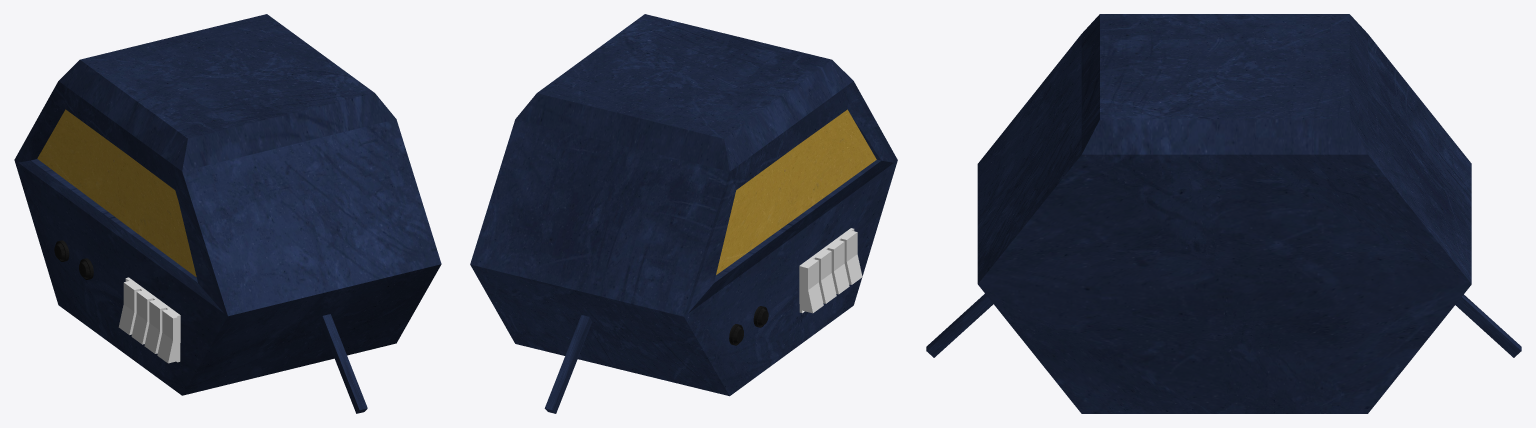
Rendered from Radio_b.fbx.
3 renders of one model, left to right at view 1: azimuth 30°, elevation 25°; view 2: azimuth 150°, elevation 25°; view 3: azimuth 270°, elevation 25°, orthographic. The views are drawn at different scales.
Visible parts, largest first — view 1: radio_body, Radio_2_screen, Switches, Leg_Right, Cube.004, Switch_Panel; view 2: radio_body, Radio_2_screen, Switches, Leg_Left, Cube.004, Switch_Panel; view 3: radio_body, Leg_Right, Leg_Left.
Boxes of the visible parts, box(x1,y1,x2,y2) form: radio_body: box(14, 14, 441, 395); Radio_2_screen: box(37, 109, 196, 276); Switches: box(131, 290, 177, 363); Leg_Right: box(320, 314, 367, 413); Cube.004: box(118, 281, 140, 334); Switch_Panel: box(125, 277, 180, 362); radio_body: box(470, 14, 897, 396); Radio_2_screen: box(716, 109, 876, 274); Switches: box(815, 231, 862, 303); Leg_Left: box(544, 315, 592, 413); Cube.004: box(802, 259, 823, 313); Switch_Panel: box(799, 228, 854, 313); radio_body: box(977, 14, 1471, 413); Leg_Right: box(926, 294, 993, 357); Leg_Left: box(1455, 294, 1521, 357).
Bounding box in the file's own units: 211 × 221 × 416.
Materials: 4 (3 with a texture image).
